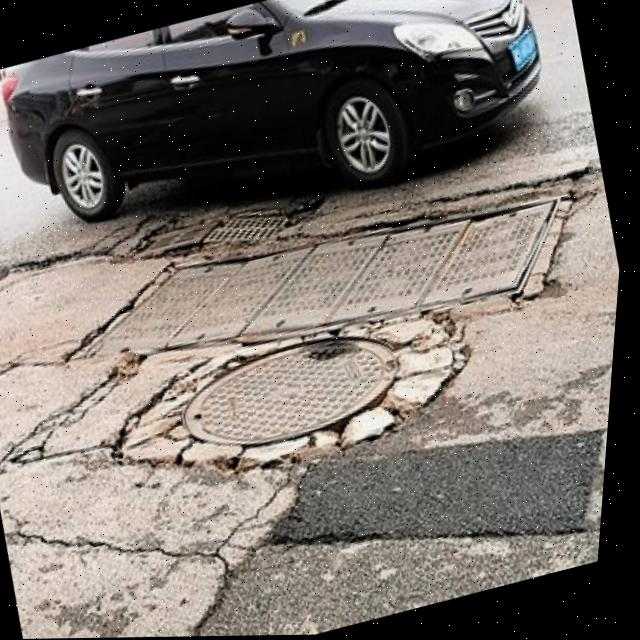manhole: (144, 291, 466, 496)
